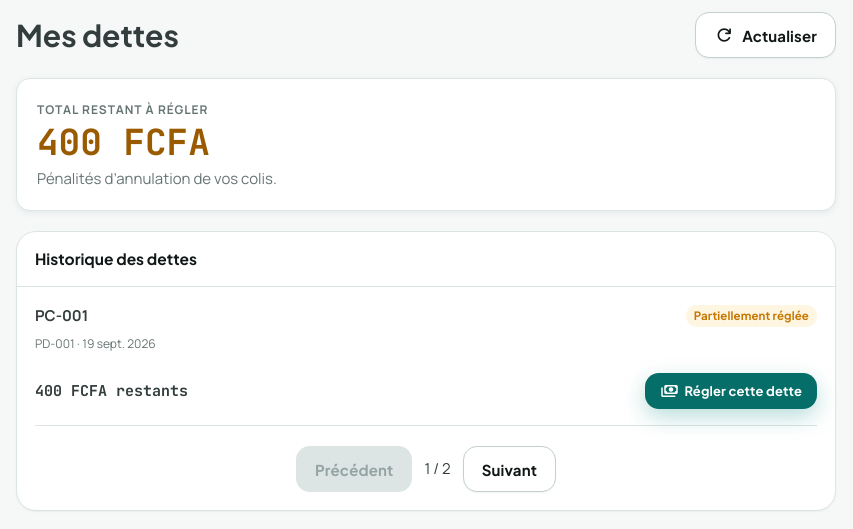
Mes dettes client › rafraîchit les dettes réglées et retire leur action de paiement
Expected: the text "400 FCFA" is shown, [37, 118, 210, 166]
Step 1. Click the button "Actualiser" → (766, 35), box [695, 12, 836, 58]
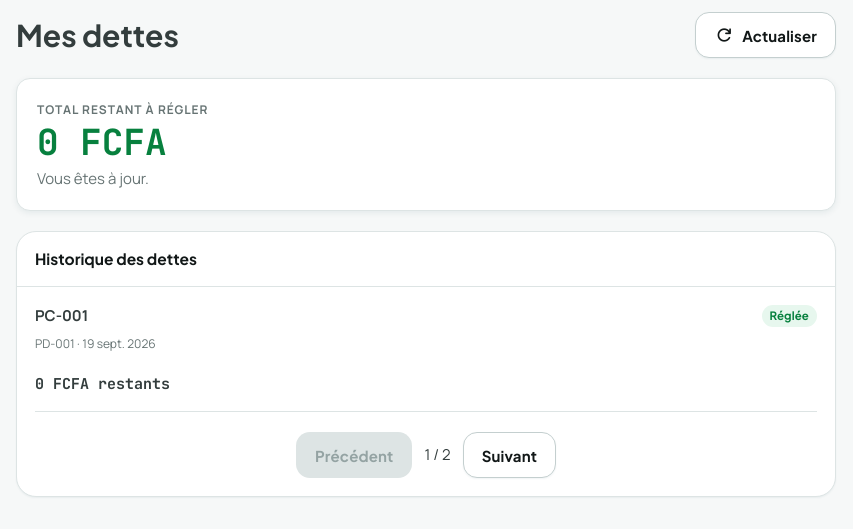
Expected: the text "Vous êtes à jour." is shown, [37, 168, 149, 189]
Expected: the button "Régler cette dette" is gone
